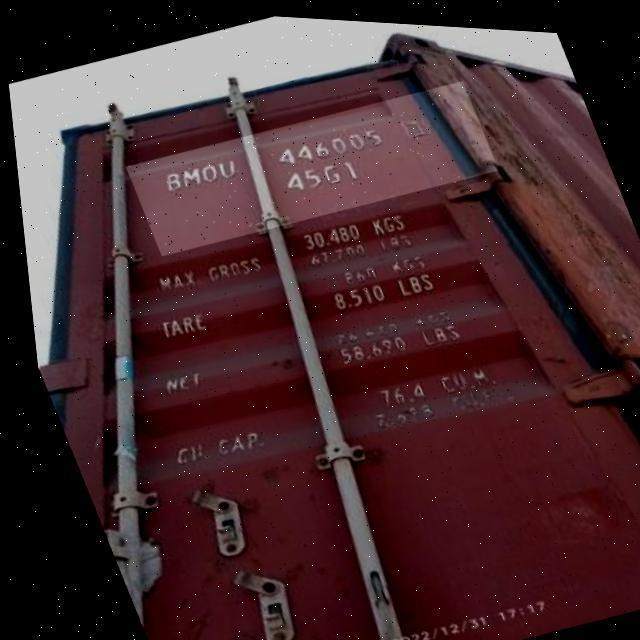container_number_h: (113, 59, 505, 273)
